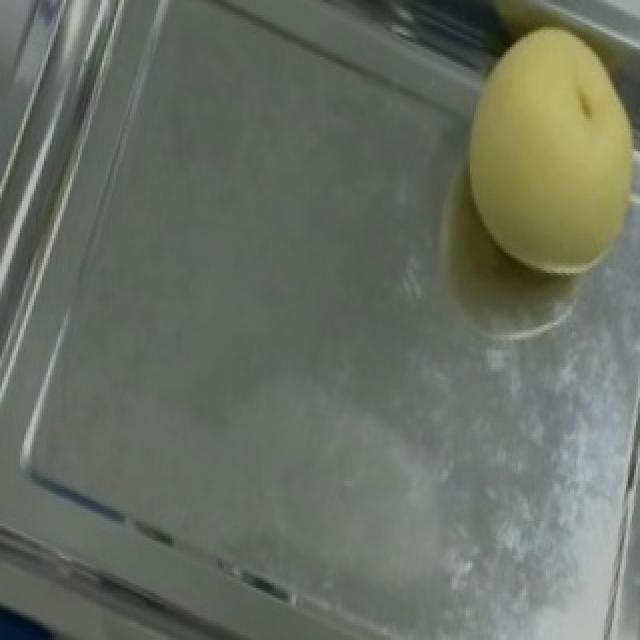Fruit: (418, 0, 640, 303)
